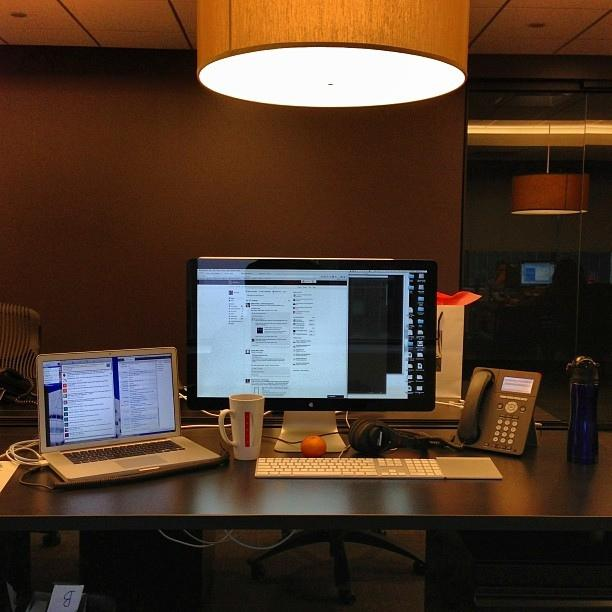orange: (300, 435, 326, 458)
